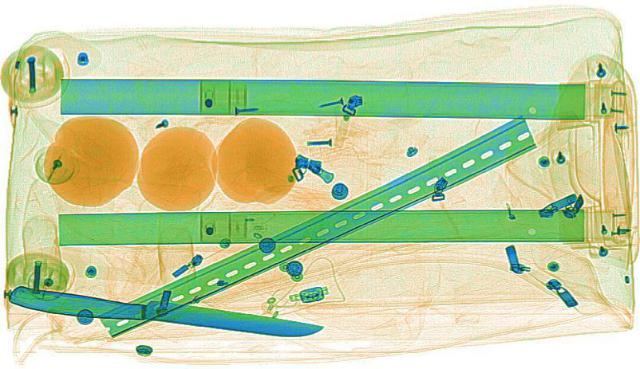Knife: (3, 282, 325, 345)
